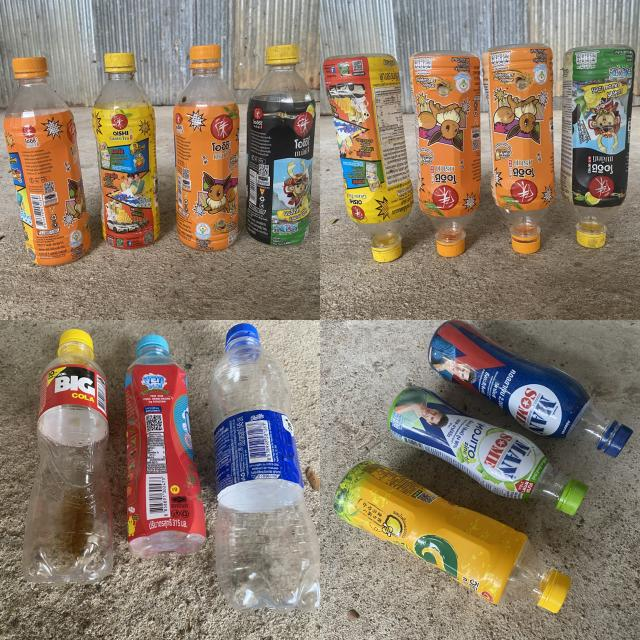plastik: (334, 461, 570, 612), (209, 324, 320, 612), (429, 320, 632, 458), (389, 388, 588, 515), (22, 329, 114, 584), (322, 54, 414, 262), (4, 58, 91, 265), (125, 335, 206, 557), (482, 44, 555, 254), (560, 45, 635, 248), (409, 51, 480, 256), (246, 45, 315, 245), (174, 45, 240, 250), (92, 52, 160, 249)
